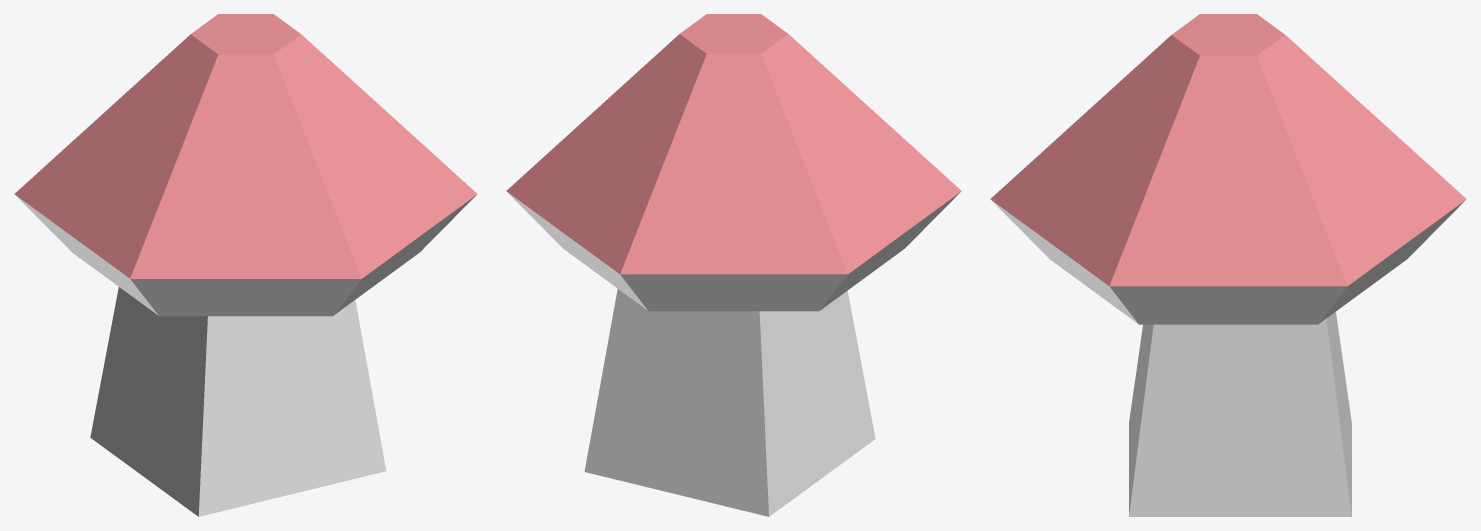
The model's file is mushroom_red.glb.
3 renders of one model, left to right at view 1: azimuth 30°, elevation 25°; view 2: azimuth 150°, elevation 25°; view 3: azimuth 270°, elevation 25°, orthographic. The views are drawn at different scales.
Visible parts, largest first — view 1: mushroom_red; view 2: mushroom_red; view 3: mushroom_red.
Part boxes in pixels (box(x1,y1,x2,y2)): mushroom_red: box(14, 14, 477, 516); mushroom_red: box(506, 14, 961, 516); mushroom_red: box(990, 14, 1466, 516).
Size of the model in its own units: 0.174 by 0.2028 by 0.2009.
Materials: 1 (1 with a texture image).
